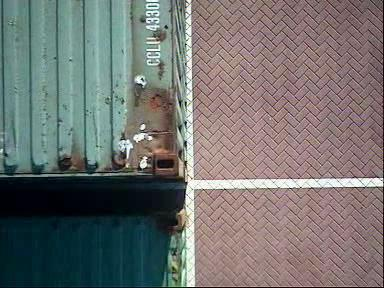groundmarker_2: (66, 177, 174, 239)
